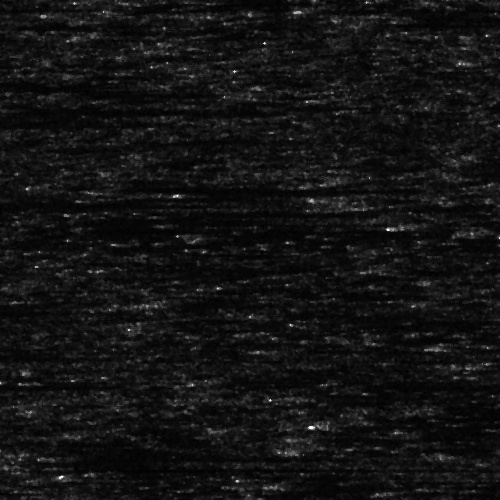object: (2, 444, 107, 469), (0, 102, 52, 119), (127, 298, 210, 307), (219, 347, 292, 352), (56, 184, 119, 187), (55, 35, 108, 38)
shadow: (54, 444, 295, 469), (0, 102, 268, 119), (168, 298, 339, 307), (0, 379, 116, 390), (0, 116, 78, 129), (0, 350, 105, 359), (256, 347, 341, 352), (82, 35, 174, 38), (88, 184, 178, 187)
